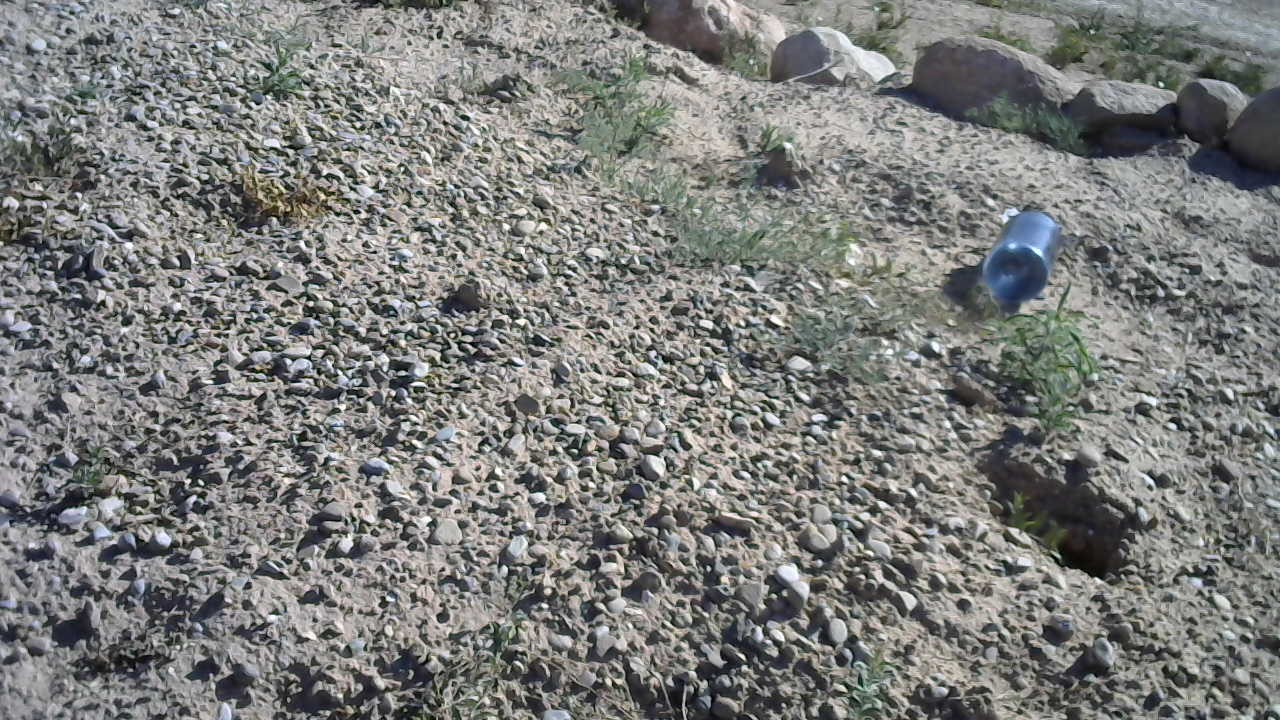bottle: (979, 199, 1060, 304)
